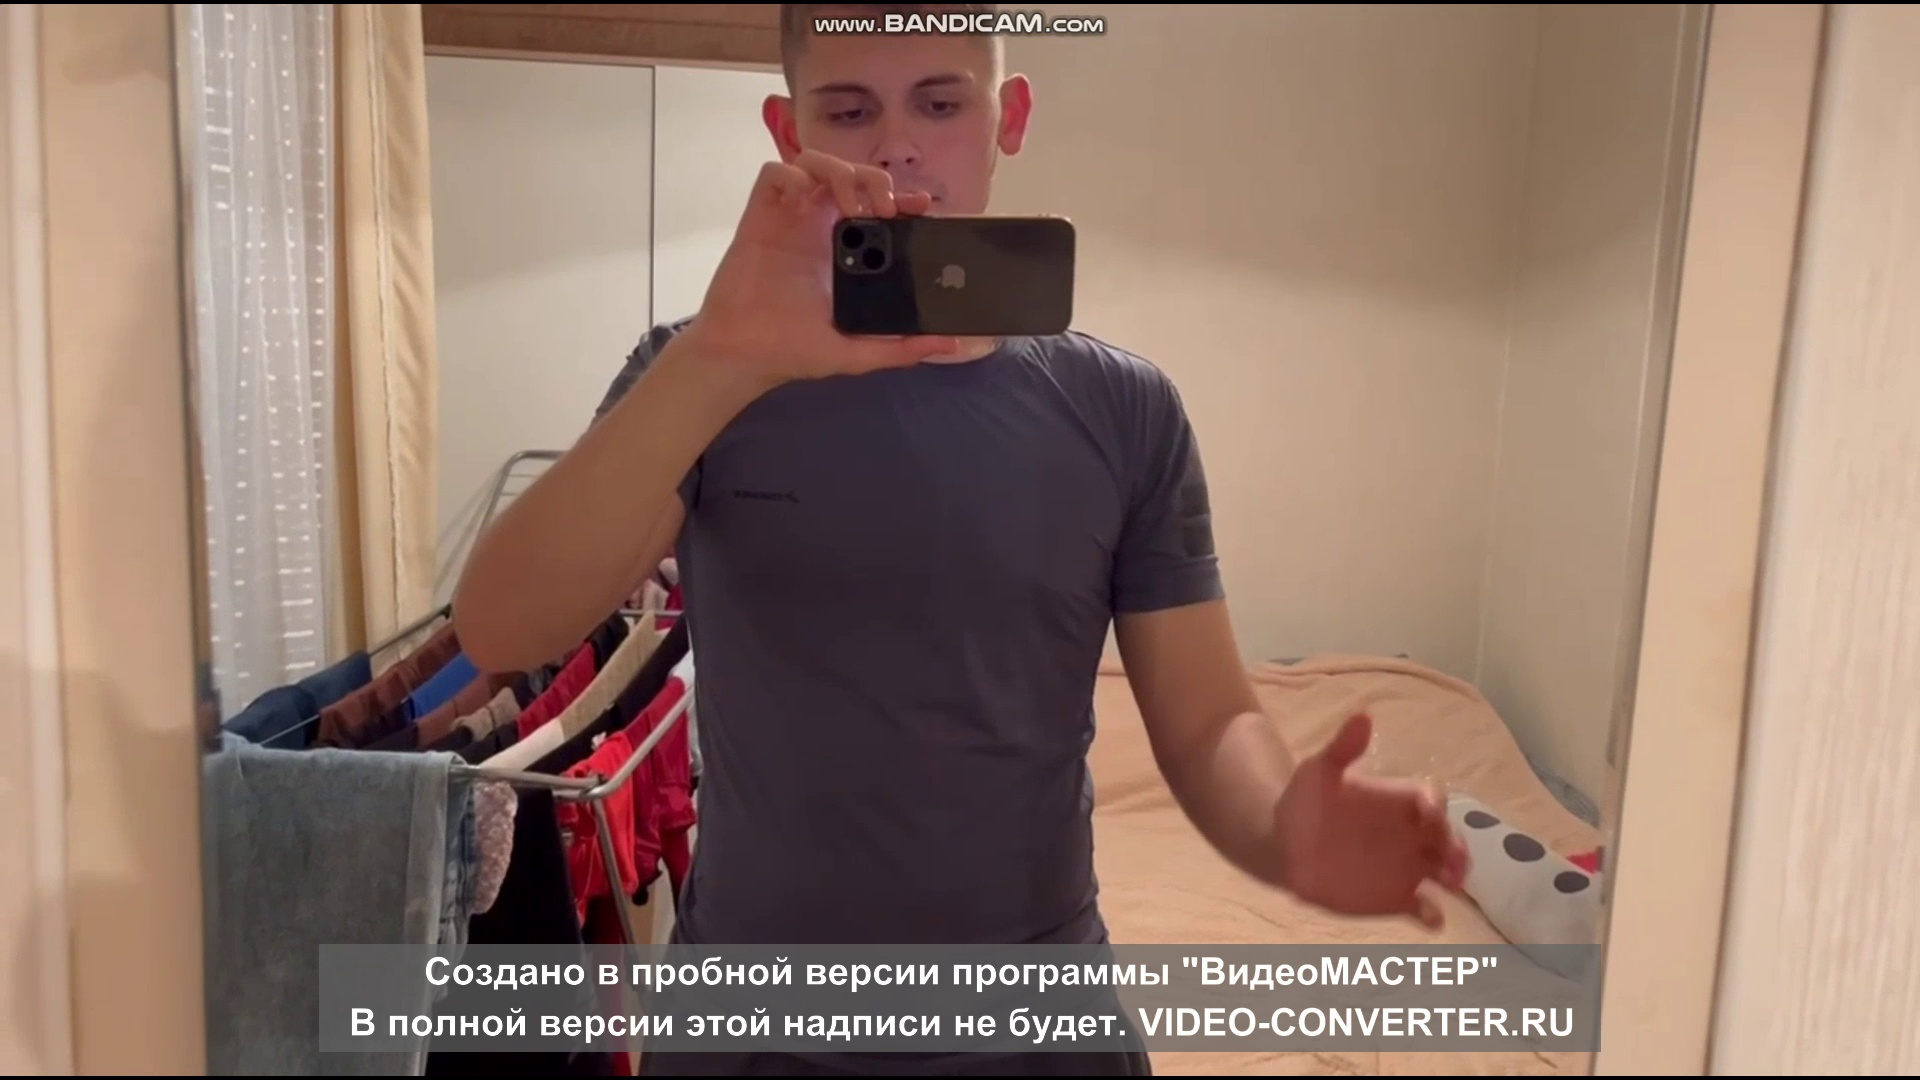Ладонь: (1280, 709, 1472, 942)
